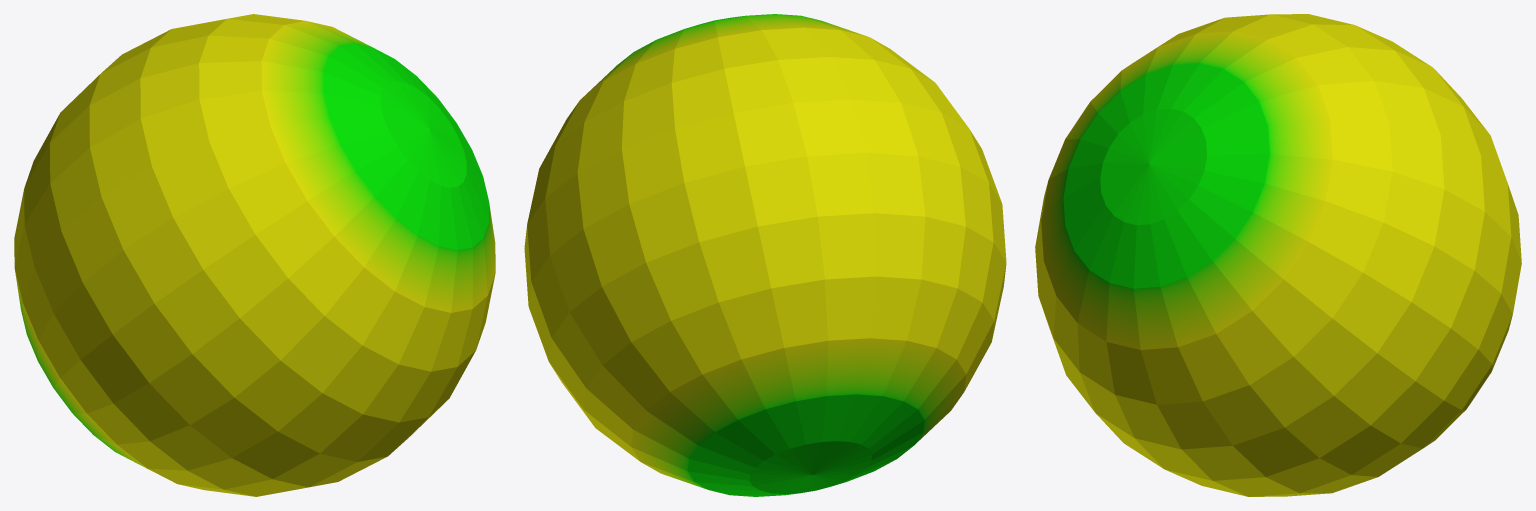
Rendered from eclipse_y.obj.
3 views of the same model, side by side, from view 1: azimuth 30°, elevation 25°; view 2: azimuth 150°, elevation 25°; view 3: azimuth 270°, elevation 25° (orthographic).
Parts seen in each view (by area): view 1: YMesh; view 2: YMesh; view 3: YMesh.
Part boxes in pixels (x1,y1,x2,y2): YMesh: [14, 14, 495, 496]; YMesh: [524, 14, 1006, 496]; YMesh: [1035, 14, 1521, 496].
Bounding box in the file's own units: 3.76 × 3.76 × 3.76.
